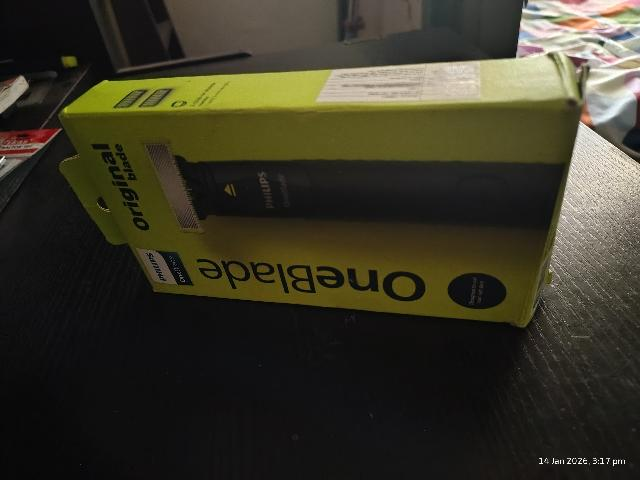phillips oneblade: (58, 88, 588, 328)
